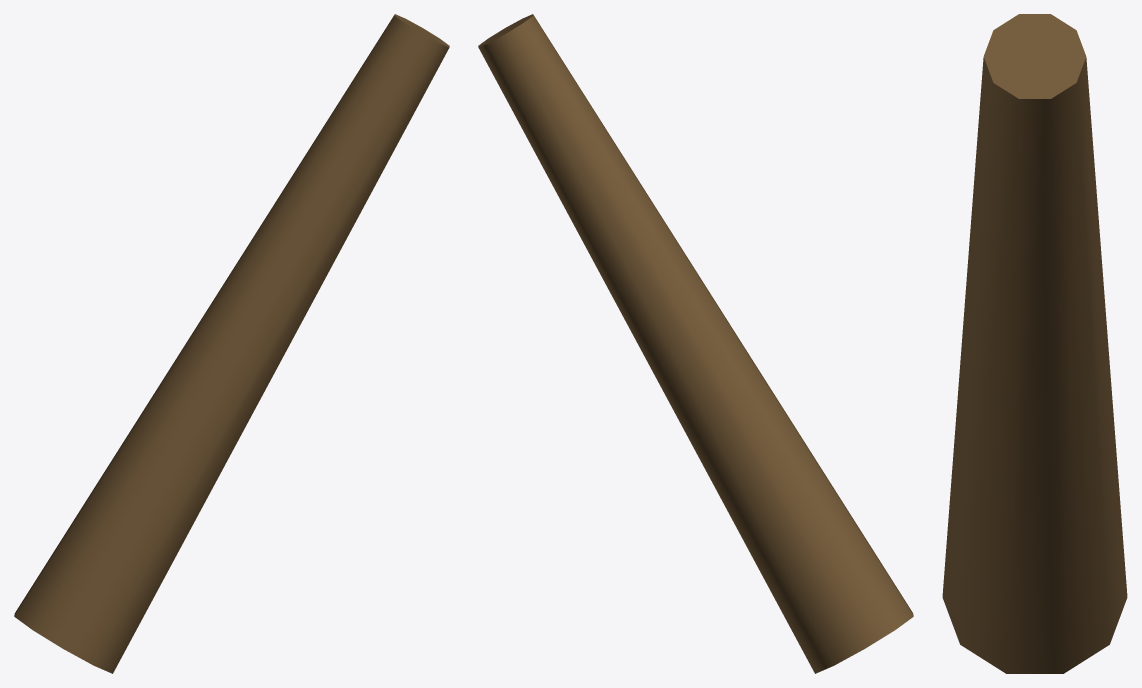
File: branch-east.glb
The picture shows the model from 3 angles, left to right: view 1: azimuth 30°, elevation 25°; view 2: azimuth 150°, elevation 25°; view 3: azimuth 270°, elevation 25°; orthographic projection. The views are drawn at different scales.
Parts seen in each view (by area): view 1: Branch east; view 2: Branch east; view 3: Branch east.
Part boxes in pixels (x1,y1,x2,y2): Branch east: (14,14,449,673); Branch east: (478,14,913,673); Branch east: (942,14,1127,673).
Bounding box in the file's own units: 23.56 × 30.6 × 5.81.
